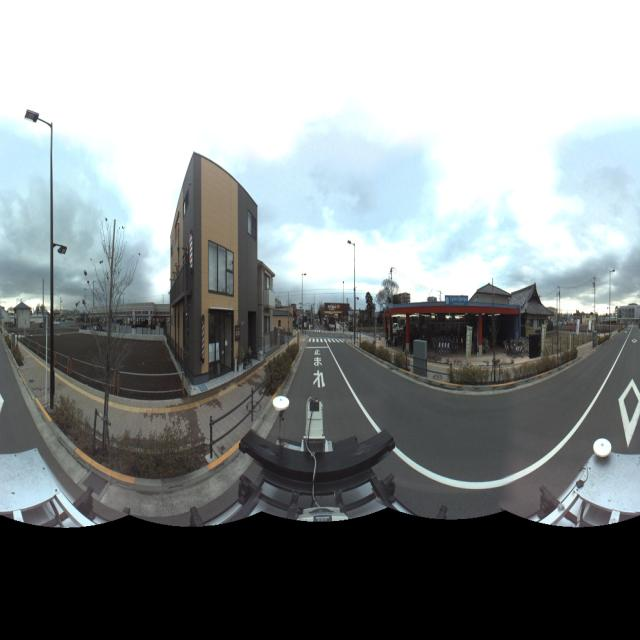b_1: (164, 149, 260, 387), (257, 266, 275, 360), (615, 295, 640, 332), (581, 308, 599, 335)
